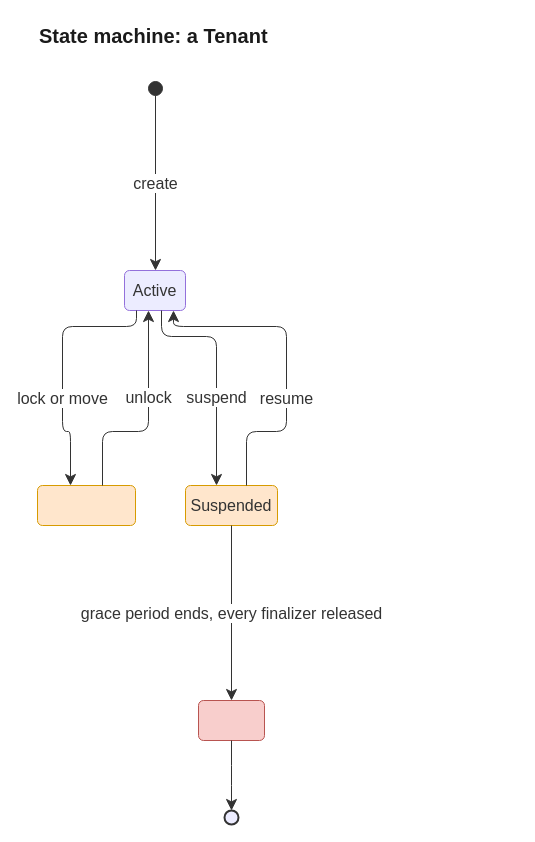
Some shapes in this 535 by 842 pixel diagram are drawn without their labels. The centre of each missing label's shape, as x and y in pixels:
"Purged" goes at point 231,720.
"Tenant lock" goes at point 86,505.
